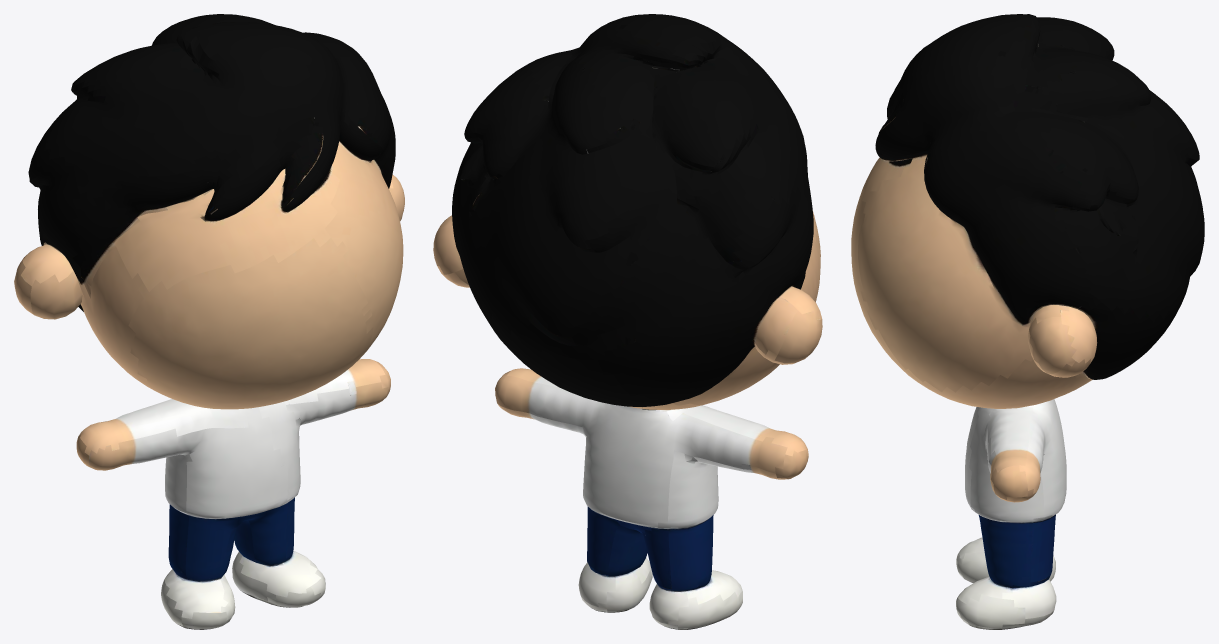
The model's file is player_character.glb.
3 views of the same model, side by side, from view 1: azimuth 30°, elevation 25°; view 2: azimuth 150°, elevation 25°; view 3: azimuth 270°, elevation 25° (orthographic).
Visible parts, largest first — view 1: Mesh0; view 2: Mesh0; view 3: Mesh0.
Part boxes in pixels (x1,y1,x2,y2): Mesh0: (14, 14, 404, 629); Mesh0: (433, 14, 822, 629); Mesh0: (851, 14, 1204, 629).
Bounding box in the file's own units: 1.31 × 1.9 × 1.07.
Materials: 1 (1 with a texture image).
